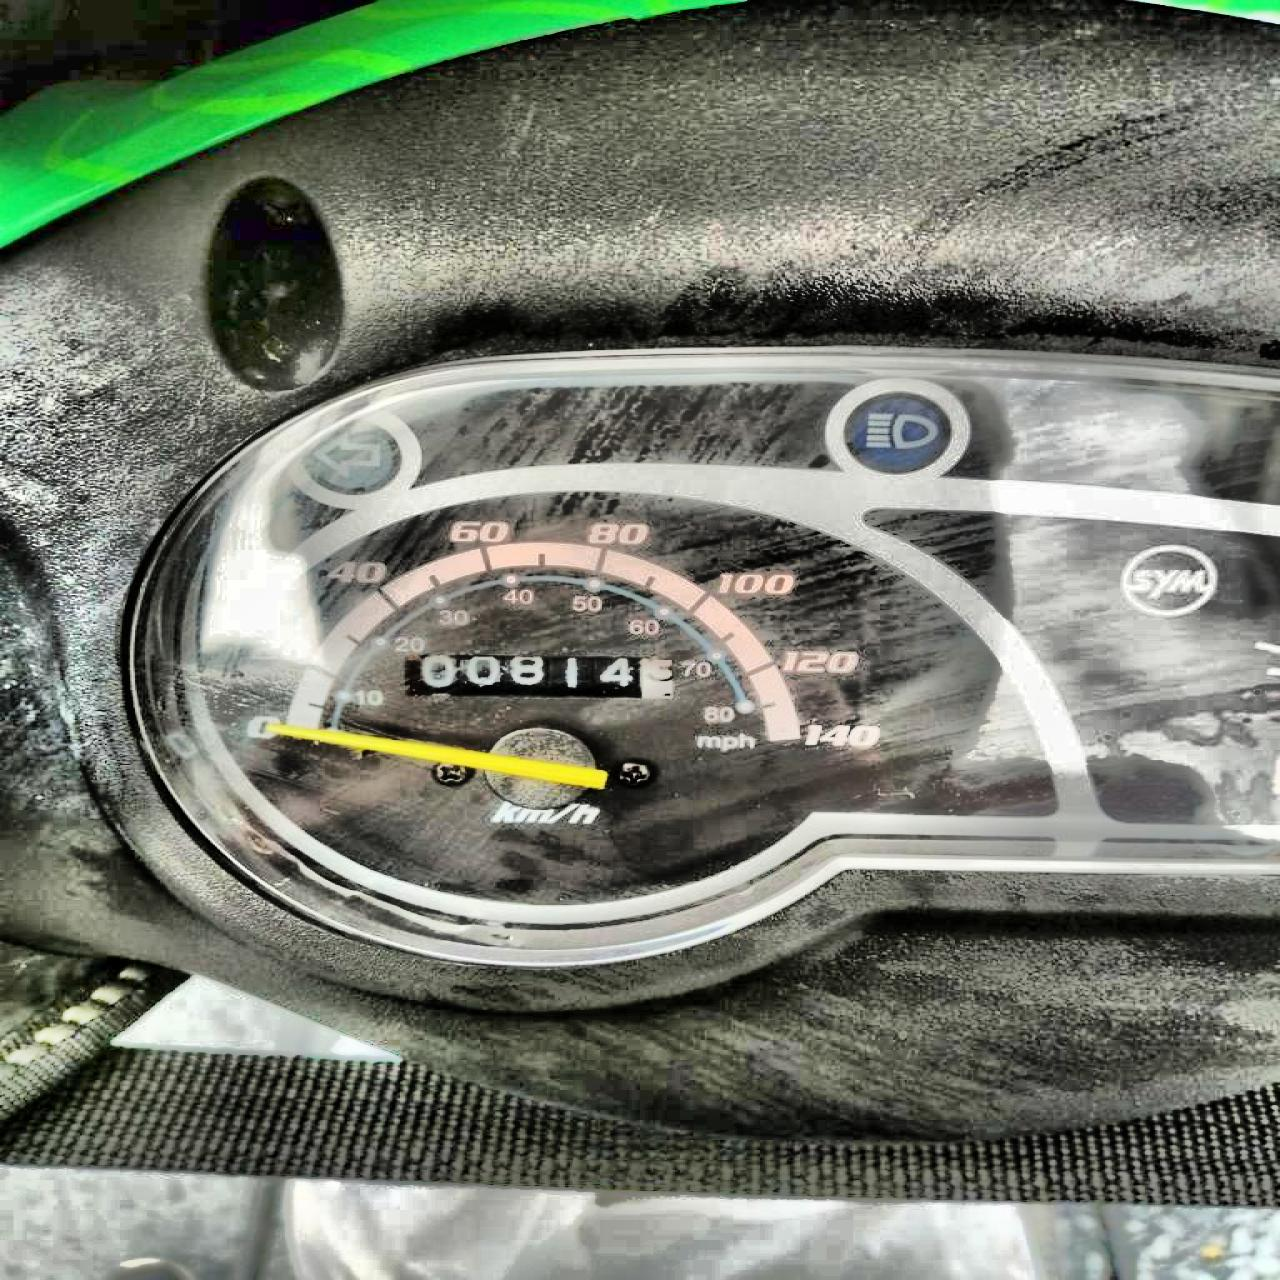0: (415, 654, 454, 690), (462, 654, 501, 688)
1: (560, 652, 584, 689)
3: (644, 654, 674, 685)
4: (597, 656, 633, 688)
8: (509, 654, 544, 686)
odometer: (399, 651, 675, 699)
